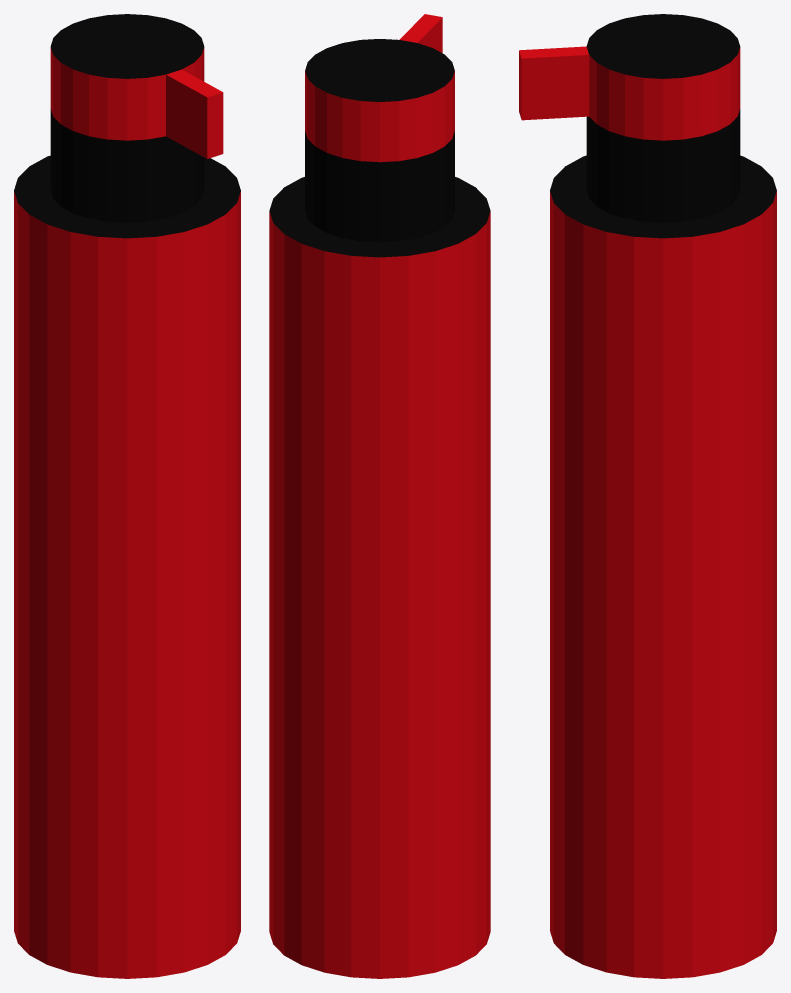
Rendered from Spray_Ursi.fbx.
3 renders of one model, left to right at view 1: azimuth 30°, elevation 25°; view 2: azimuth 150°, elevation 25°; view 3: azimuth 270°, elevation 25°, orthographic. The views are drawn at different scales.
Parts seen in each view (by area): view 1: Spray_Ursi; view 2: Spray_Ursi; view 3: Spray_Ursi.
Boxes of the visible parts, x1,y1,x2,y2 form: Spray_Ursi: [14, 14, 240, 978]; Spray_Ursi: [269, 14, 490, 978]; Spray_Ursi: [519, 14, 776, 978].
Size of the model in its own units: 5 by 21.5 by 5.68.
